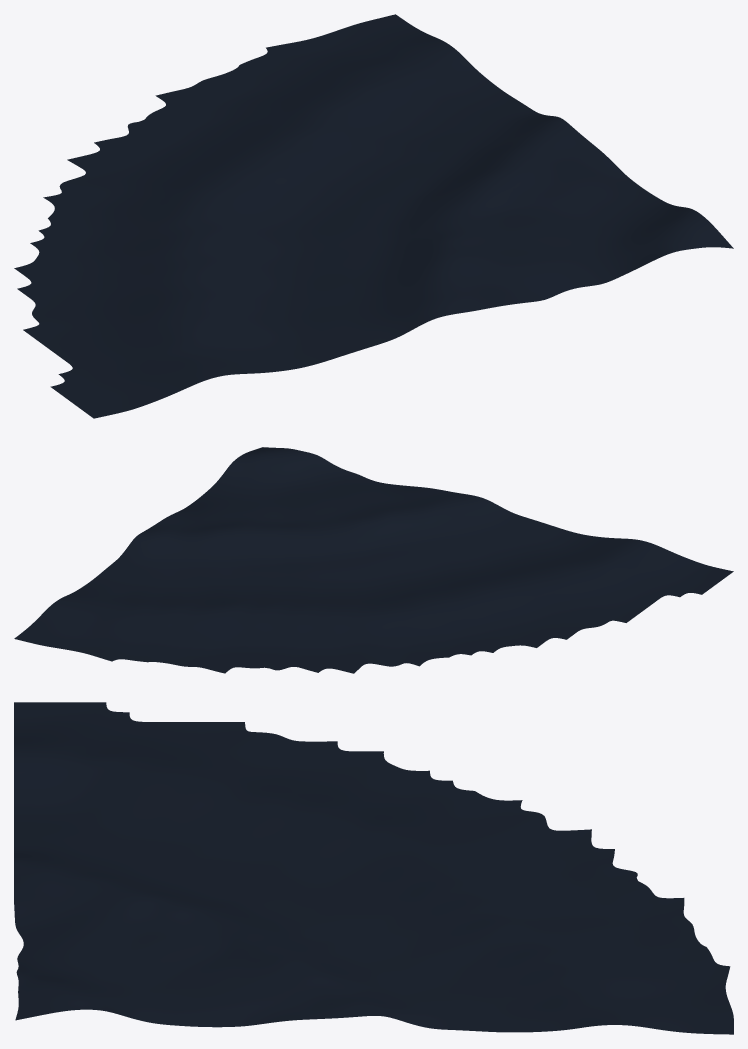
File: Water.dae
3 views of the same model, one above another, from view 1: azimuth 30°, elevation 25°; view 2: azimuth 150°, elevation 25°; view 3: azimuth 270°, elevation 25° (orthographic). The views are drawn at different scales.
Parts seen in each view (by area): view 1: DaWata; view 2: DaWata; view 3: DaWata.
Boxes of the visible parts, left/top/right/bottom form: DaWata: left=14, top=14, right=733, bottom=418; DaWata: left=14, top=447, right=733, bottom=673; DaWata: left=14, top=702, right=733, bottom=1034.
Size of the model in its own units: 34 by 1.33 by 31.15.
